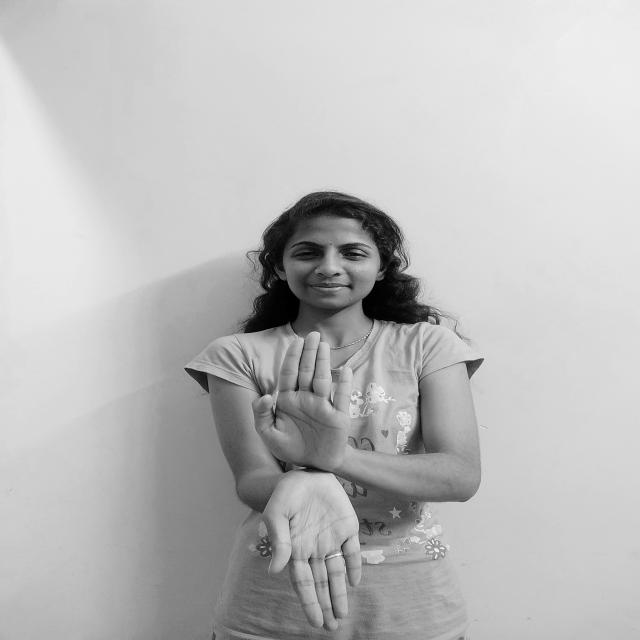Morning: (238, 318, 378, 637)
